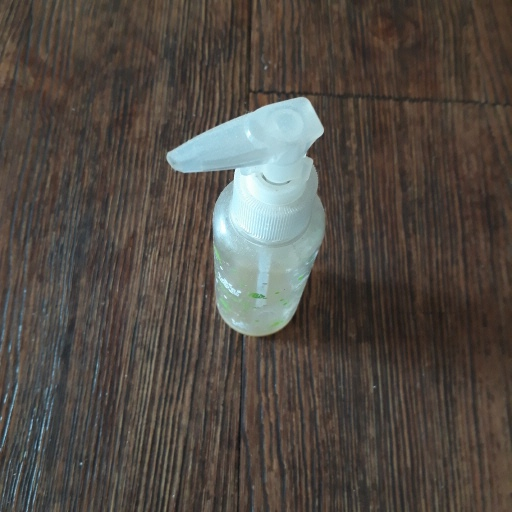Plastic_3: (165, 93, 330, 338)
